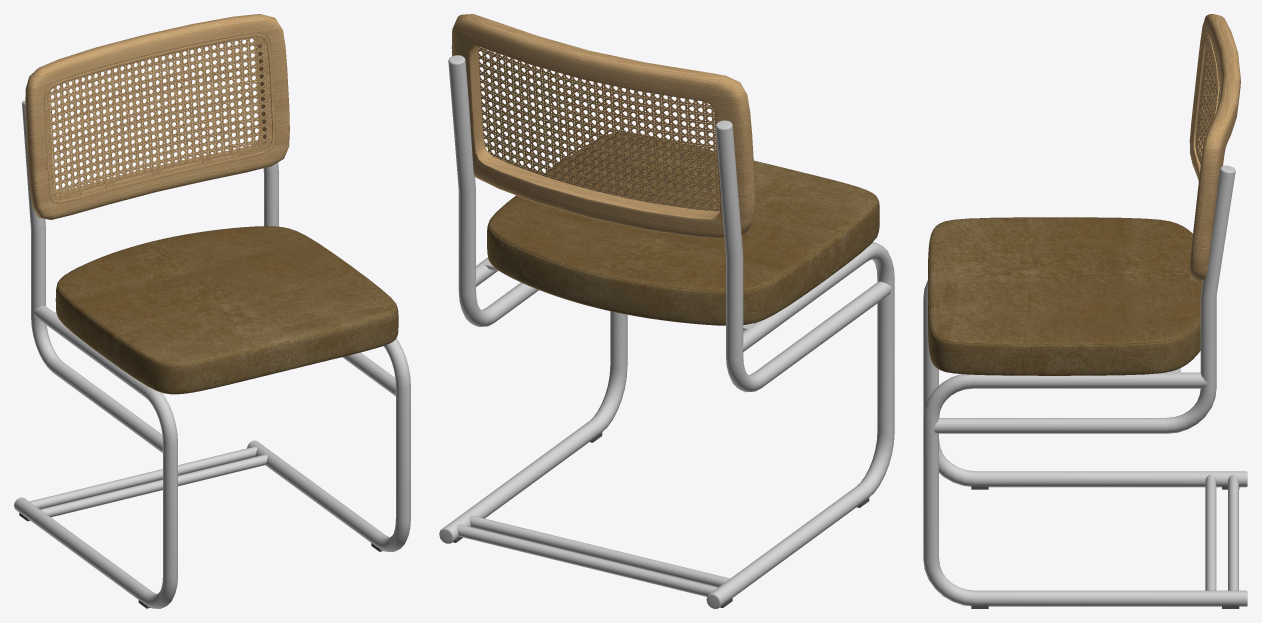
Rendered from chair.glb.
3 views of the same model, side by side, from view 1: azimuth 30°, elevation 25°; view 2: azimuth 150°, elevation 25°; view 3: azimuth 270°, elevation 25° (orthographic). The views are drawn at different scales.
Parts seen in each view (by area): view 1: Seat_16, 3DGeom-3_19, Leg_8; view 2: 3DGeom-3_19, Seat_16, Leg_8; view 3: Seat_16, Leg_8, 3DGeom-3_19.
Part boxes in pixels (x1,y1,x2,y2): Seat_16: (55, 226, 398, 394); 3DGeom-3_19: (25, 14, 289, 219); Leg_8: (14, 100, 410, 608); 3DGeom-3_19: (451, 14, 755, 238); Seat_16: (487, 132, 879, 325); Leg_8: (439, 55, 894, 608); Seat_16: (928, 217, 1202, 375); Leg_8: (923, 81, 1247, 606); 3DGeom-3_19: (1189, 14, 1240, 280).
Size of the model in its own units: 0.4918 by 0.8257 by 0.5096.
Materials: 4 (2 with a texture image).
